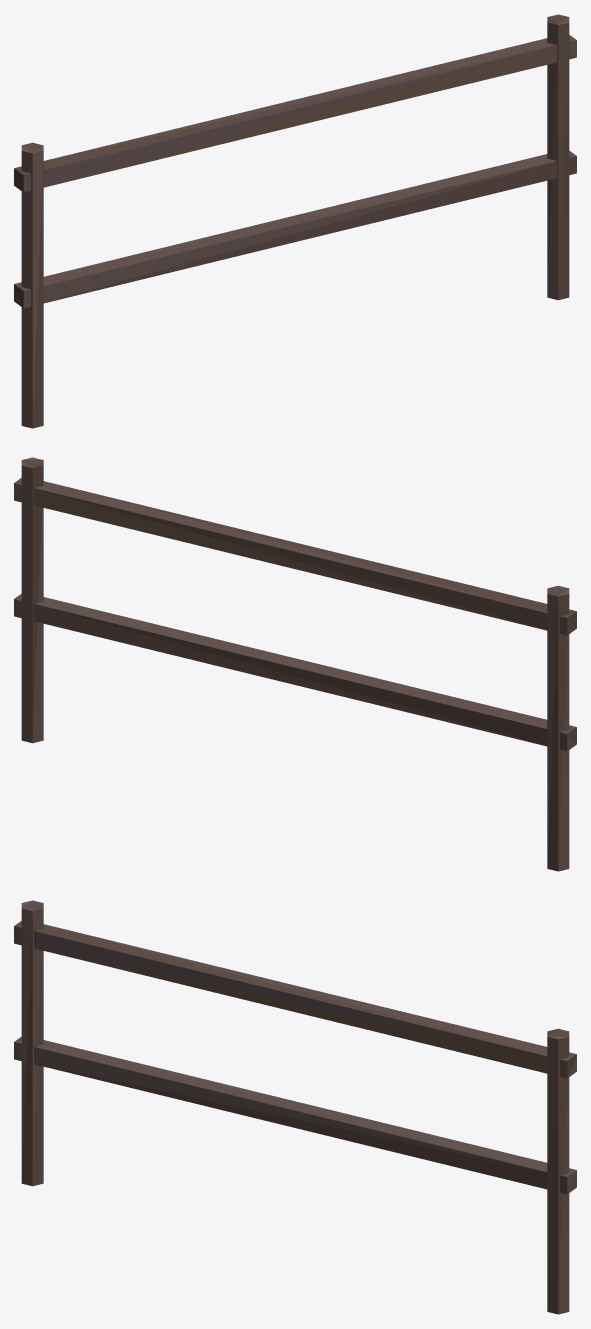
The model's file is HK_Guardrail.glb.
3 views of the same model, one above another, from view 1: azimuth 30°, elevation 25°; view 2: azimuth 150°, elevation 25°; view 3: azimuth 330°, elevation 25° (orthographic).
Visible parts, largest first — view 1: HK_Guardrail; view 2: HK_Guardrail; view 3: HK_Guardrail.
Boxes of the visible parts, left/top/right/bottom form: HK_Guardrail: left=14, top=14, right=576, bottom=428; HK_Guardrail: left=14, top=457, right=576, bottom=871; HK_Guardrail: left=14, top=900, right=576, bottom=1314.
Bounding box in the file's own units: 2 × 0.95 × 0.0693.
